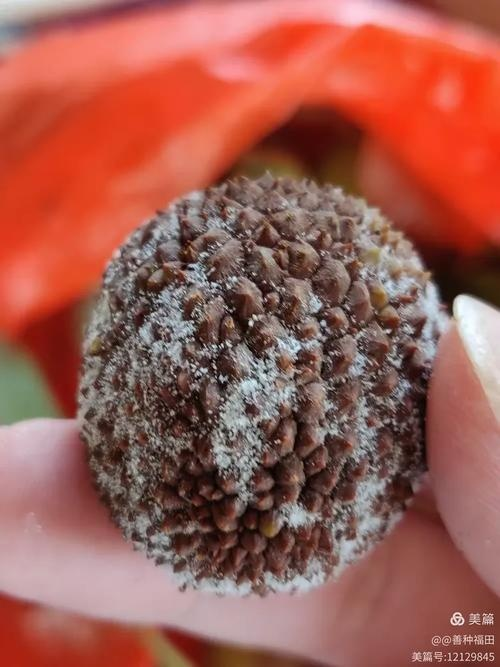Frost_Blight: (74, 196, 449, 564)
